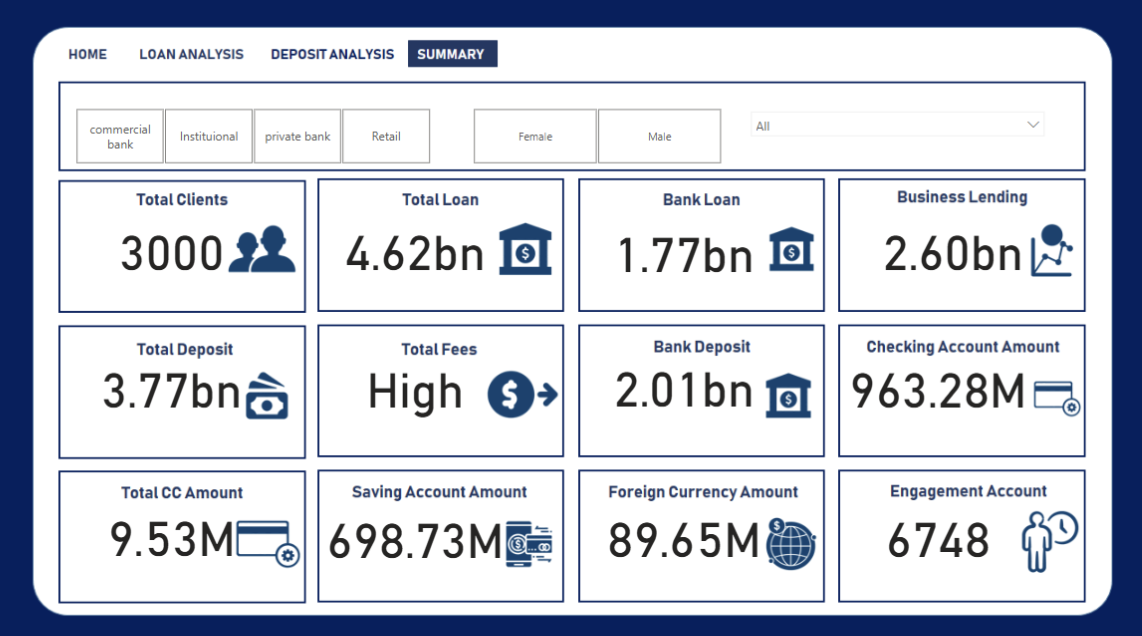

This screenshot's page, from the dashboard's own definition file:
{"tool":"powerbi","page":{"name":"summary","canvas":[1280,720],"ordinal":3},"visuals":[{"type":"card","fields":{"Values":["CountNonNull(banking_case customer.Name)"]},"box":[45.8,217.9,300,118.4],"z":0},{"type":"card","fields":{"Values":["banking_case customer.Total Loan"]},"box":[317.4,217.9,300,118.4],"z":1},{"type":"card","fields":{"Values":["Sum(banking_case customer.Bank Loans)"]},"box":[617.4,219.5,300,118.4],"z":2},{"type":"card","fields":{"Values":["Sum(banking_case customer.Business Lending)"]},"box":[917.4,217.9,300,118.4],"z":3},{"type":"card","fields":{"Values":["Sum(banking_case customer.Bank Deposits)"]},"box":[617.4,369.5,300,118.4],"z":4},{"type":"card","fields":{"Values":["Min(banking_case customer.Fee Structure)"]},"box":[317.4,371.1,300,116.8],"z":5},{"type":"card","fields":{"Values":["banking_case customer.Total Deposits"]},"box":[45.8,371.1,300,116.8],"z":6},{"type":"card","fields":{"Values":["Sum(banking_case customer.Checking Accounts)"]},"box":[900,371.1,300,118.4],"z":7},{"type":"card","fields":{"Values":["Sum(banking_case customer.Credit Card Balance)"]},"box":[45.8,536.8,300,118.4],"z":8},{"type":"card","fields":{"Values":["Sum(banking_case customer.Risk Weighting)"]},"box":[900,538.4,300,118.4],"z":9},{"type":"card","fields":{"Values":["Sum(banking_case customer.Foreign Currency Account)"]},"box":[617.4,538.4,300,116.8],"z":10},{"type":"card","fields":{"Values":["Sum(banking_case customer.Saving Accounts)"]},"box":[317.4,540,300,116.8],"z":11},{"type":"actionButton","box":[69.5,34.7,72.6,47.4],"z":12},{"type":"slicer","fields":{"Values":["banking_case customer.BRId"]},"box":[63.2,116.8,443.7,74.2],"z":13},{"type":"slicer","fields":{"Values":["banking_case customer.GenderId"]},"box":[506.8,116.8,325.3,74.2],"z":14},{"type":"slicer","fields":{"Values":["banking_case customer.IAId"]},"box":[832.1,116.8,347.4,56.8],"z":15}]}

Visuals, with their boxes in screenshot pixels (x1, y1, x2, y2), scaled from the page's 1280x720 canvas onto the 1142x636 screenshot:
card - CountNonNull(banking_case customer.Name): [x1=41, y1=192, x2=309, y2=297]
card - banking_case customer.Total Loan: [x1=283, y1=192, x2=551, y2=297]
card - Sum(banking_case customer.Bank Loans): [x1=551, y1=194, x2=818, y2=298]
card - Sum(banking_case customer.Business Lending): [x1=818, y1=192, x2=1086, y2=297]
card - Sum(banking_case customer.Bank Deposits): [x1=551, y1=326, x2=818, y2=431]
card - Min(banking_case customer.Fee Structure): [x1=283, y1=328, x2=551, y2=431]
card - banking_case customer.Total Deposits: [x1=41, y1=328, x2=309, y2=431]
card - Sum(banking_case customer.Checking Accounts): [x1=803, y1=328, x2=1071, y2=432]
card - Sum(banking_case customer.Credit Card Balance): [x1=41, y1=474, x2=309, y2=579]
card - Sum(banking_case customer.Risk Weighting): [x1=803, y1=476, x2=1071, y2=580]
card - Sum(banking_case customer.Foreign Currency Account): [x1=551, y1=476, x2=818, y2=579]
card - Sum(banking_case customer.Saving Accounts): [x1=283, y1=477, x2=551, y2=580]
actionButton: [x1=62, y1=31, x2=127, y2=73]
slicer - banking_case customer.BRId: [x1=56, y1=103, x2=452, y2=169]
slicer - banking_case customer.GenderId: [x1=452, y1=103, x2=742, y2=169]
slicer - banking_case customer.IAId: [x1=742, y1=103, x2=1052, y2=153]
